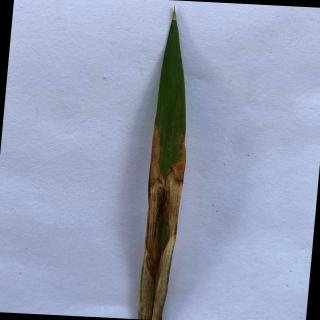Hawar-Daun: (132, 128, 187, 319)
